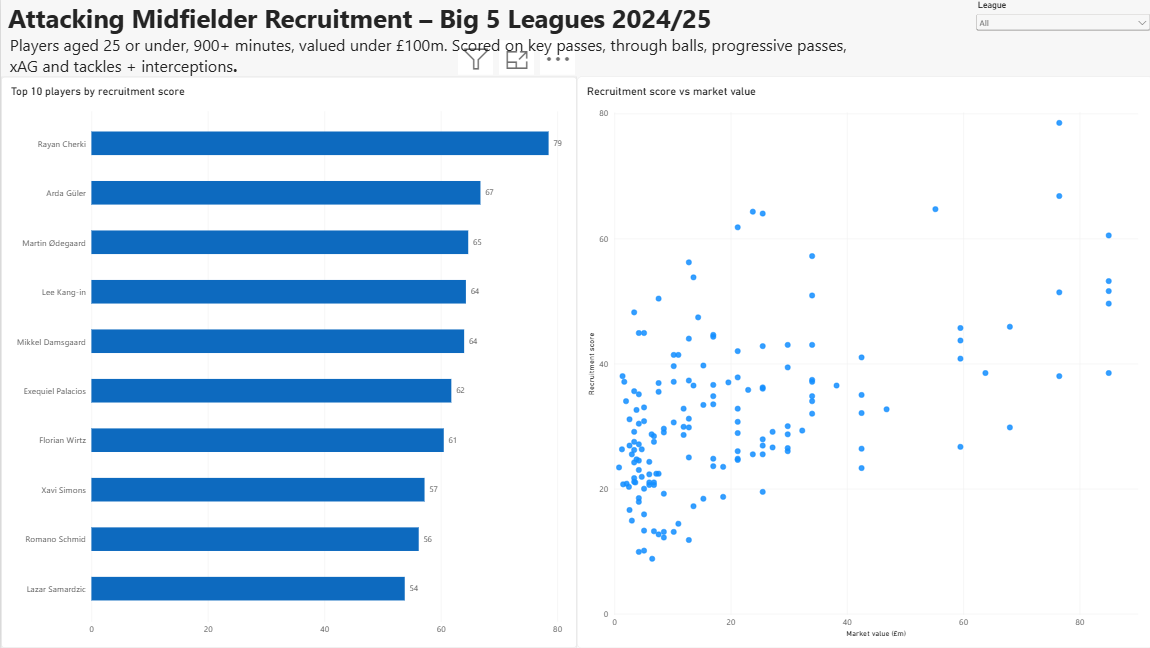

The dashboard page shown, as its layout file describes it:
{"tool":"powerbi","page":{"name":"Overview","canvas":[1920,1080],"ordinal":0},"visuals":[{"type":"clusteredBarChart","title":"Top 10 players by recruitment score","fields":{"Category":["scored_players.player"],"Y":["Sum(scored_players.total_score)"]},"box":[0,128,960,952.5],"z":0},{"type":"scatterChart","title":"Recruitment score vs market value","fields":{"Category":["scored_players.player"],"X":["Sum(scored_players.value_gbp_m)"],"Y":["scored_players.total_score"]},"box":[960,127.5,960,952.5],"z":1000},{"type":"textbox","box":[0,0,1920,127.5],"z":2000},{"type":"slicer","fields":{"Values":["scored_players.league"]},"box":[1620,0,300,65],"z":3000}]}

Visuals, with their boxes on the page's 1920x1080 design canvas (x1, y1, x2, y2). These are canvas units, not pixel positions in the 1150x648 screenshot, which may show the page scaled, cropped or inside an application window:
"Top 10 players by recruitment score" clusteredBarChart: <box>0,128,960,1080</box>
"Recruitment score vs market value" scatterChart: <box>960,128,1920,1080</box>
textbox: <box>0,0,1920,128</box>
slicer - scored_players.league: <box>1620,0,1920,65</box>
